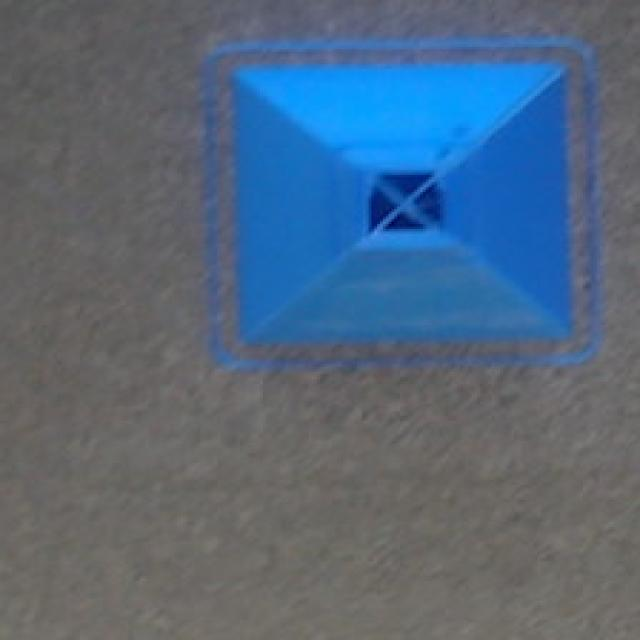mistake: (203, 42, 597, 362)
